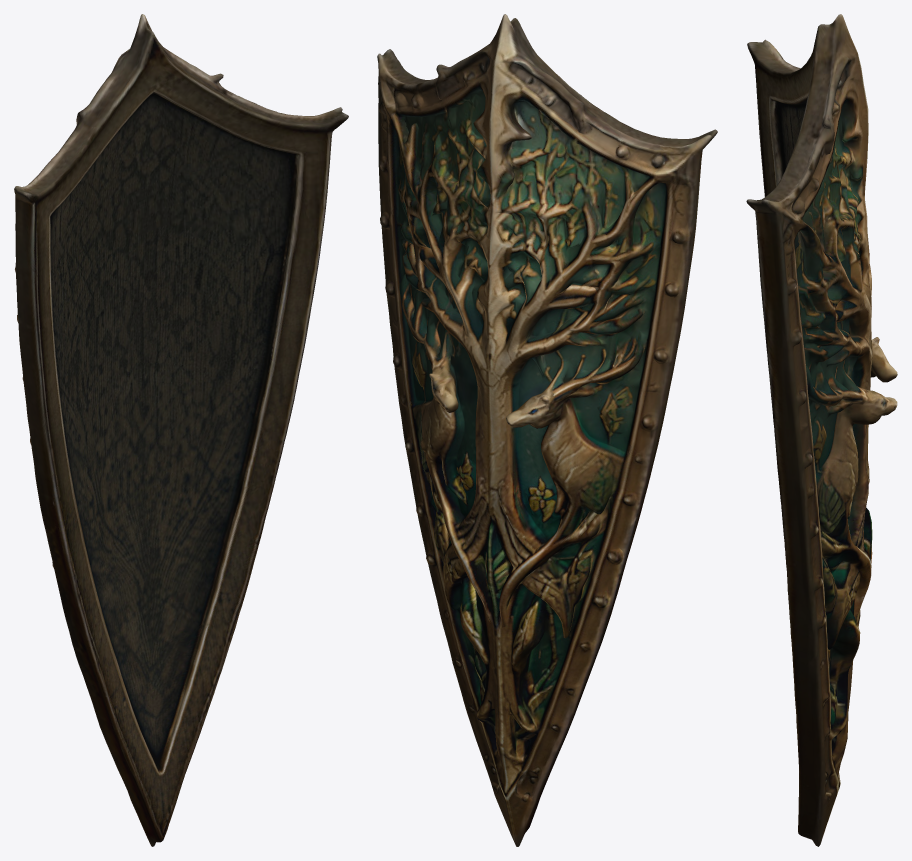
Rendered from kite_twin_stag.glb.
3 renders of one model, left to right at view 1: azimuth 30°, elevation 25°; view 2: azimuth 150°, elevation 25°; view 3: azimuth 270°, elevation 25°, orthographic.
Parts seen in each view (by area): view 1: kite_twin_stag; view 2: kite_twin_stag; view 3: kite_twin_stag.
Part boxes in pixels (x1=…): kite_twin_stag: x1=14, y1=14, x2=348, y2=846; kite_twin_stag: x1=377, y1=14, x2=717, y2=846; kite_twin_stag: x1=746, y1=14, x2=897, y2=846.
Bounding box in the file's own units: 0.3707 × 0.8902 × 0.1466.
Materials: 1 (1 with a texture image).
